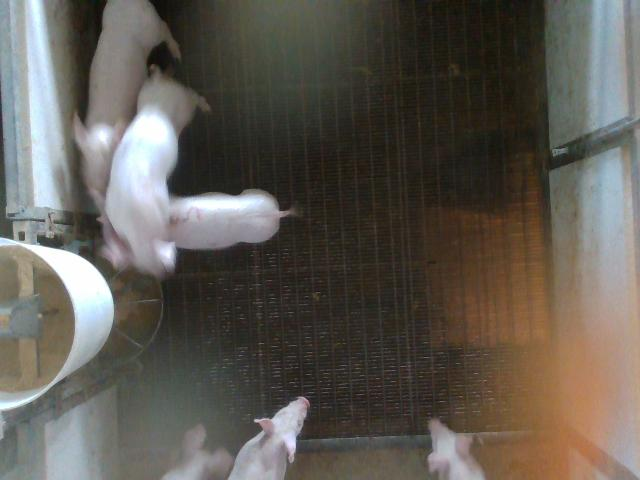pig-3: (169, 189, 298, 248)
